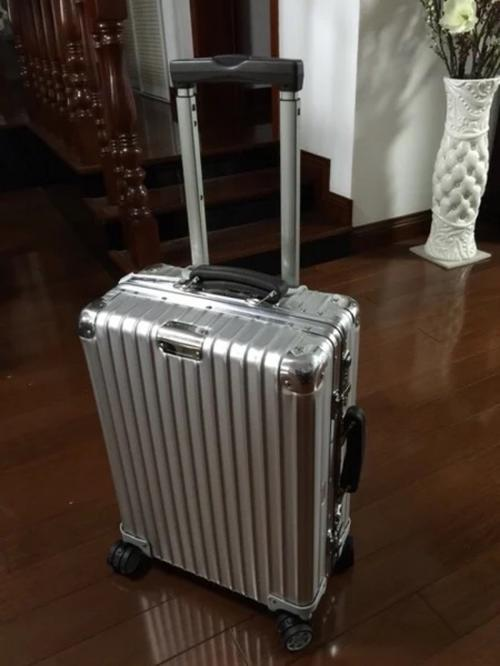box: (78, 263, 358, 618)
handle: (177, 264, 290, 308), (333, 406, 367, 505)
wheel: (274, 613, 314, 651), (106, 540, 145, 578)
